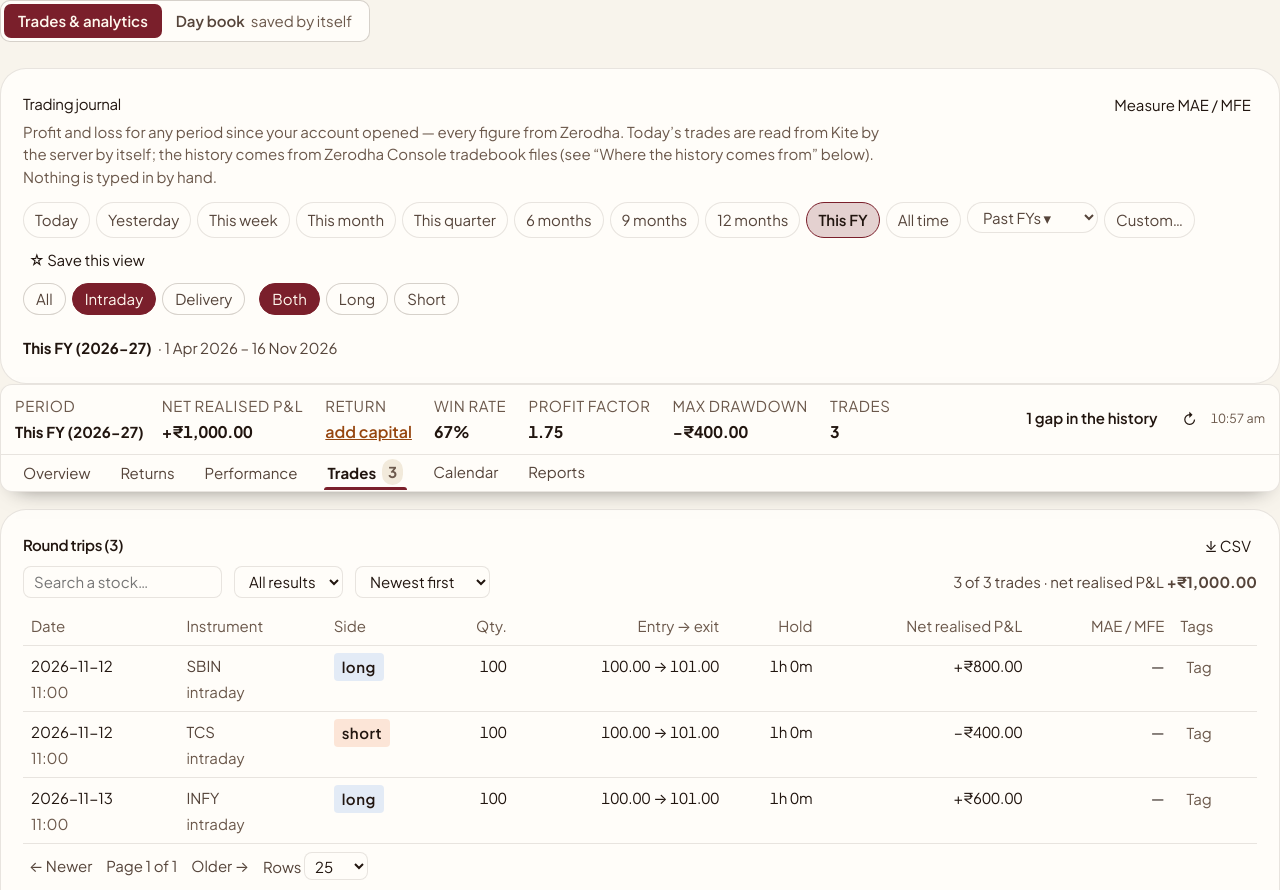
it: the trades list can be searched, filtered by result and sorted, and says what the shown trades made
Expected: the text "3 of 3 trades · net realised P&L +₹1,000.00" is shown, [953,569,1257,594]
Type "tcs" into the search field labelled "Search a stock".
click(122, 582); type("tcs")  # box [23,566,222,598]
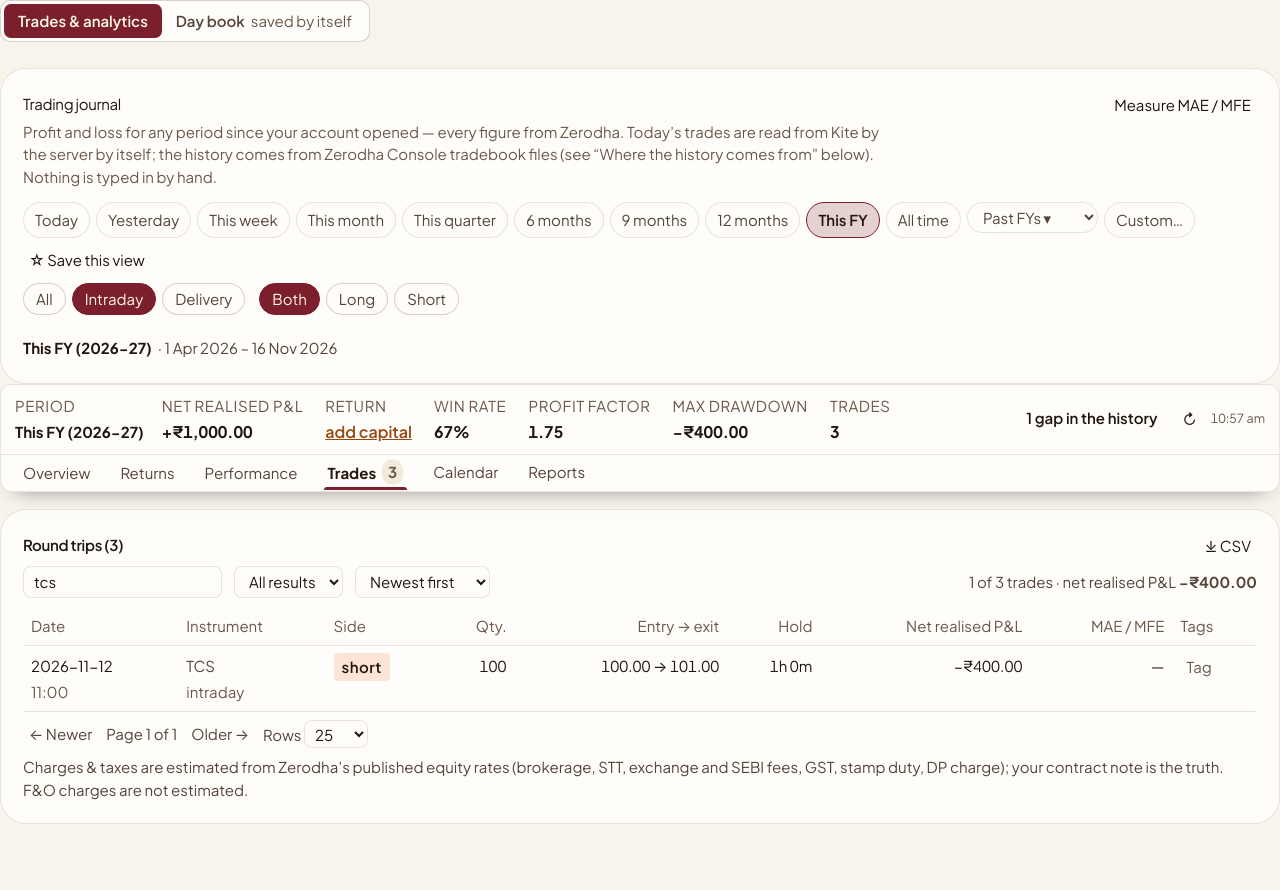
Now the text "1 of 3 trades · net realised P&L −₹400.00" is shown, box [969,569,1257,594]
Clear the search field named "Search a stock" at (122, 582), box [23,566,222,598]
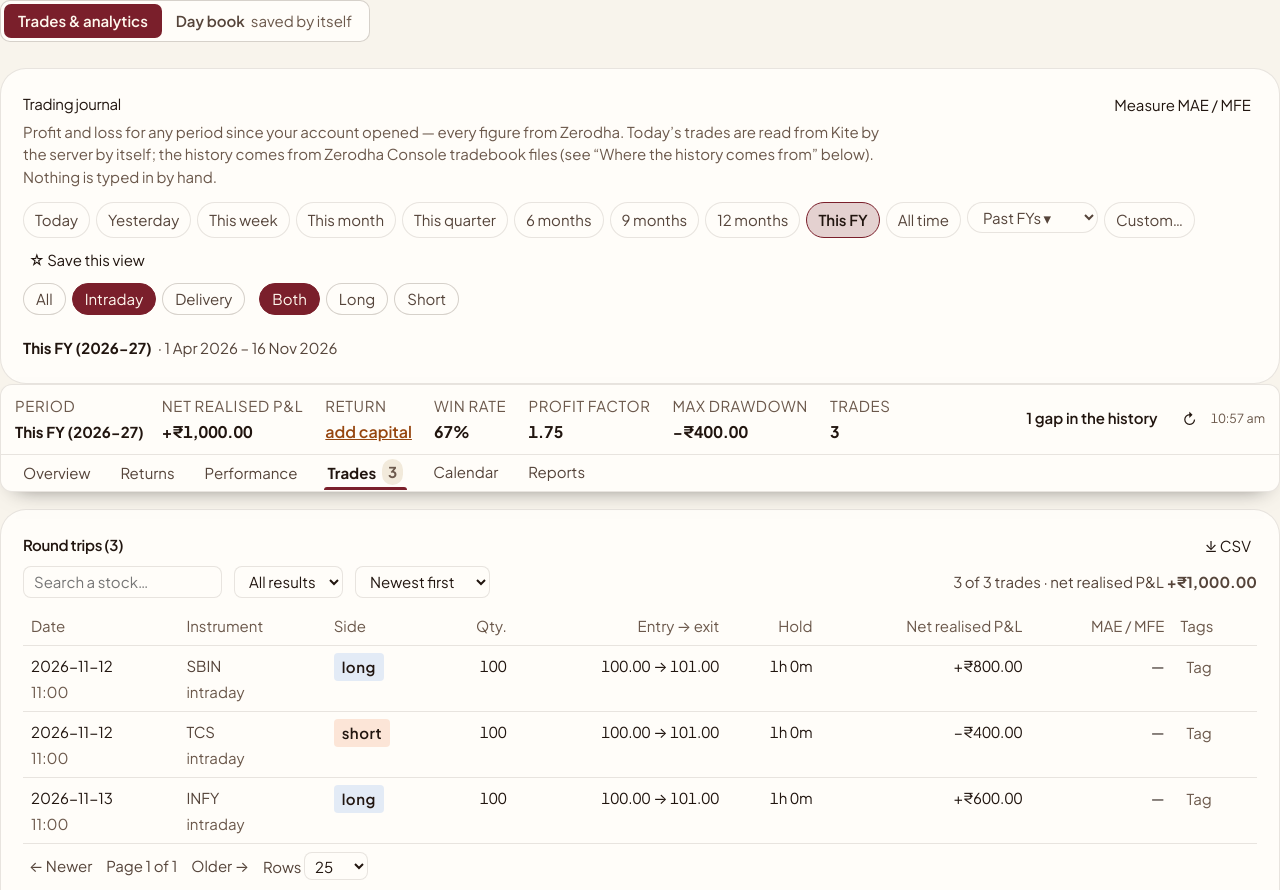
Select "Losers" in the dropdown named "Result" at (288, 582), box [234,566,343,598]
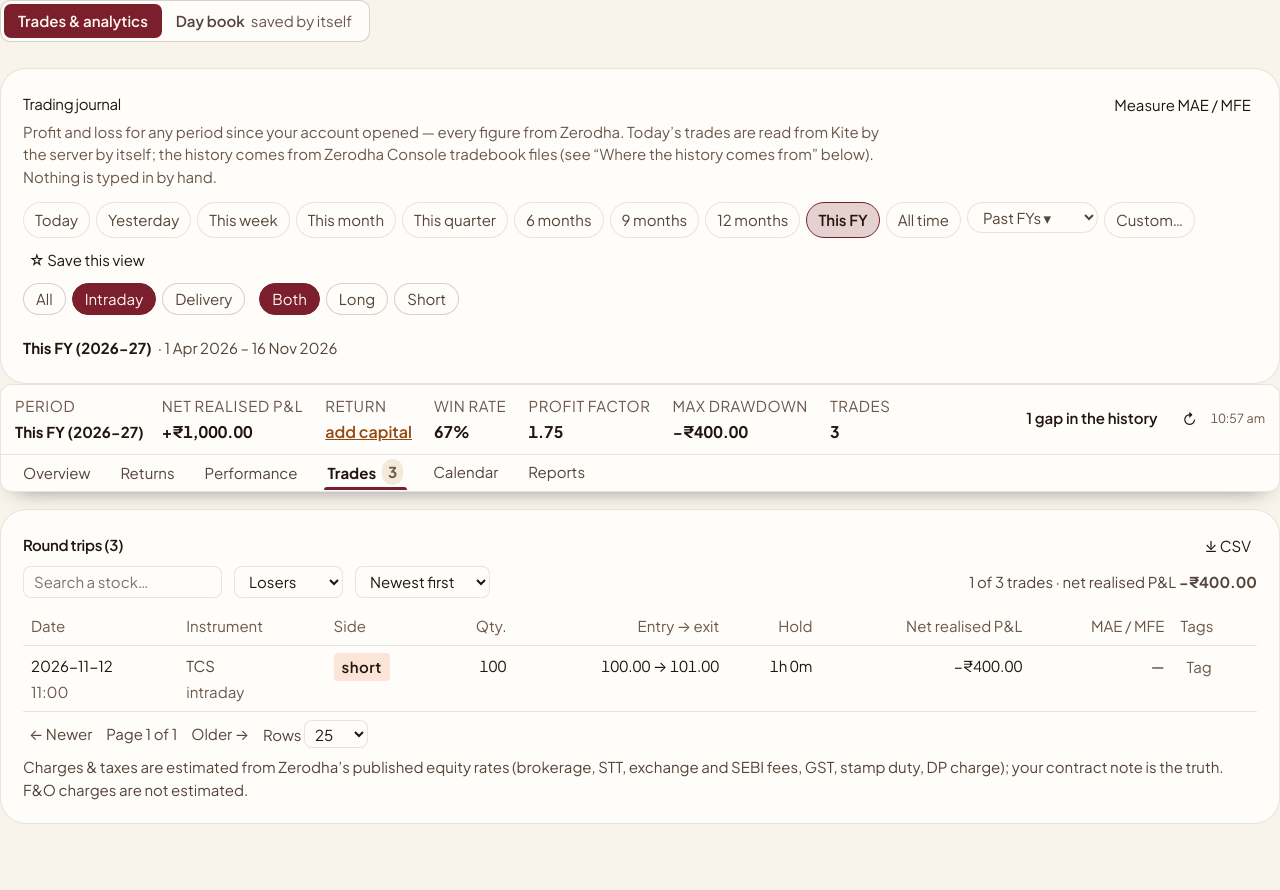
Now the text "1 of 3 trades · net realised P&L −₹400.00" is shown, box [969,569,1257,594]
Now the column heading "SBIN" is gone
